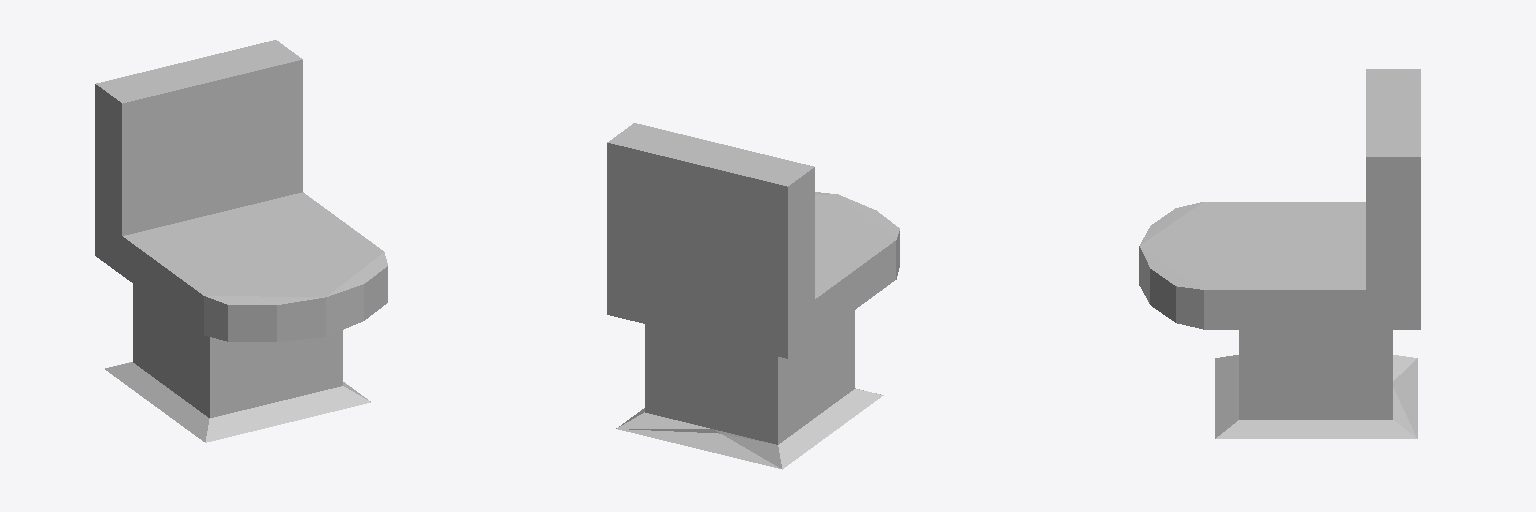
The model's file is toilet1.obj.
3 renders of one model, left to right at view 1: azimuth 30°, elevation 25°; view 2: azimuth 150°, elevation 25°; view 3: azimuth 270°, elevation 25°, orthographic.
Parts seen in each view (by area): view 1: Cube; view 2: Cube; view 3: Cube.
Boxes of the visible parts, x1,y1,x2,y2 form: Cube: [95, 40, 387, 442]; Cube: [607, 123, 899, 469]; Cube: [1139, 69, 1420, 438].
Size of the model in its own units: 4.34 by 6.56 by 5.85.